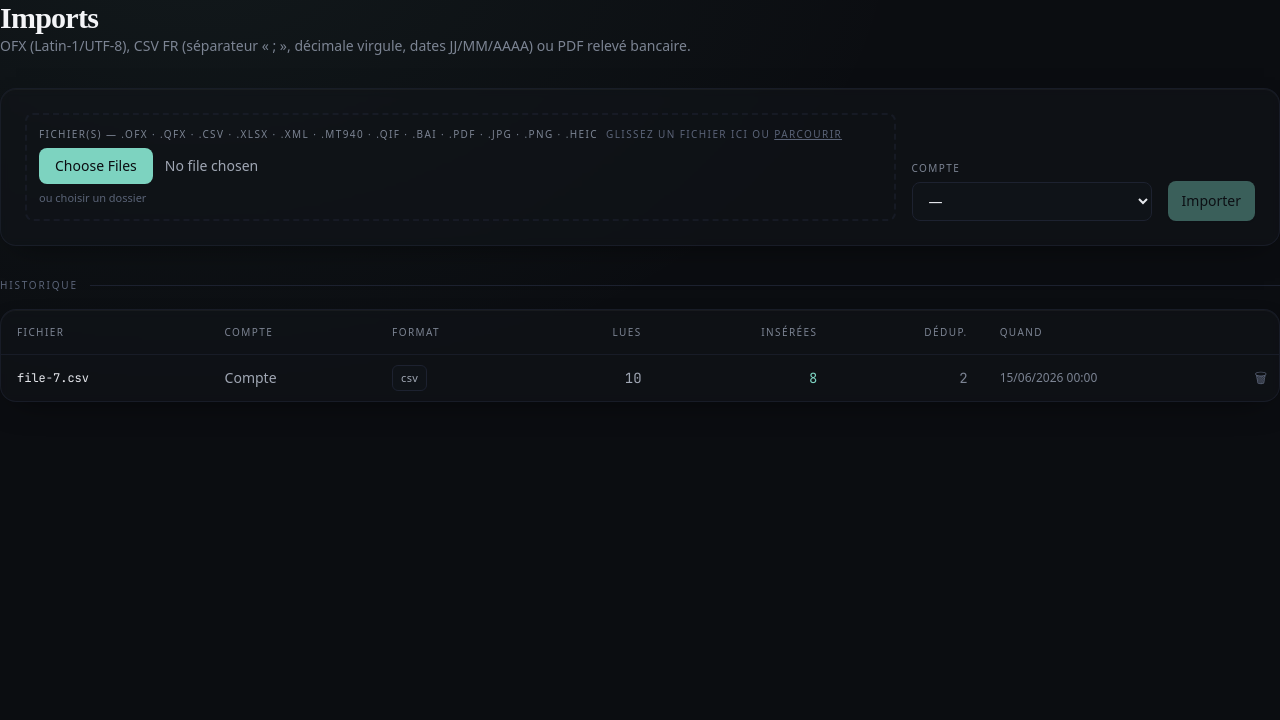
Test: Imports page (characterization) › deletes a file-import after confirmation
The width and height of the screenshot is (1280, 720).
Expected: the text "file-7.csv" is shown, [1, 354, 209, 400]
# Icon-only delete affordance, identified via aria-label.
Click the button named "Supprimer l'import" at (1261, 378), box [1250, 368, 1271, 388]
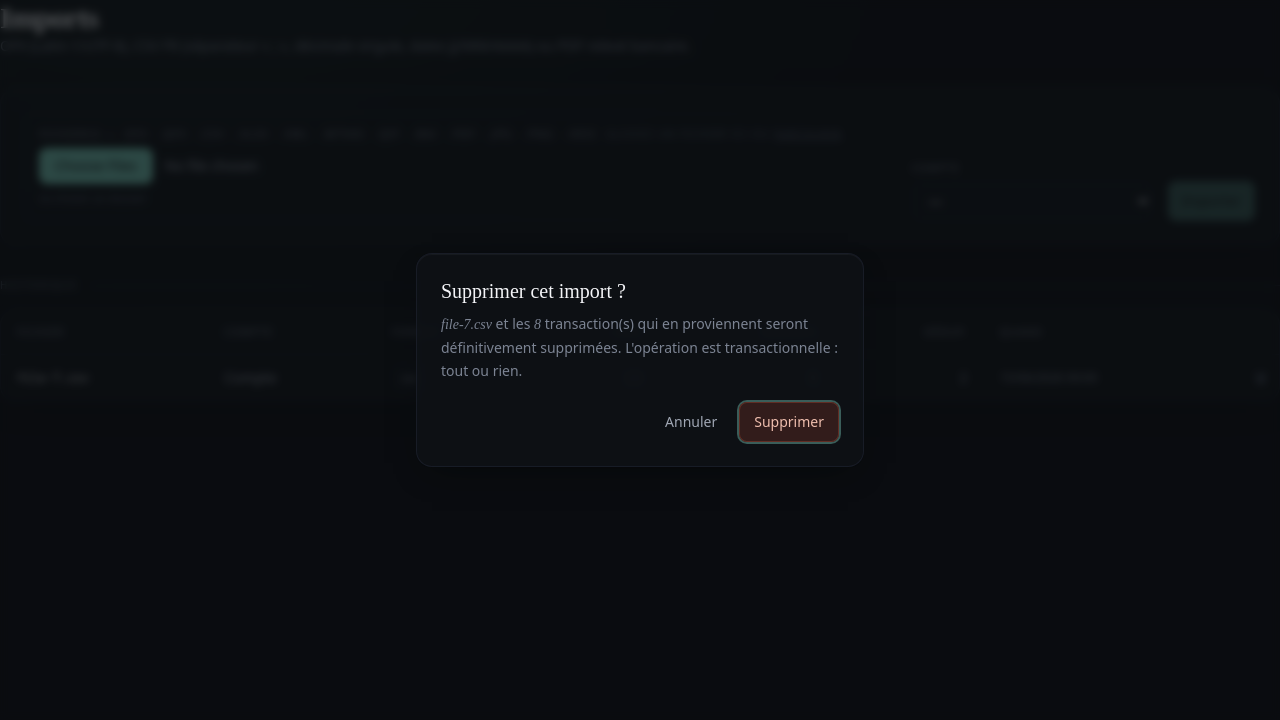
Click the button "Supprimer" at (789, 422), box [739, 402, 839, 442]
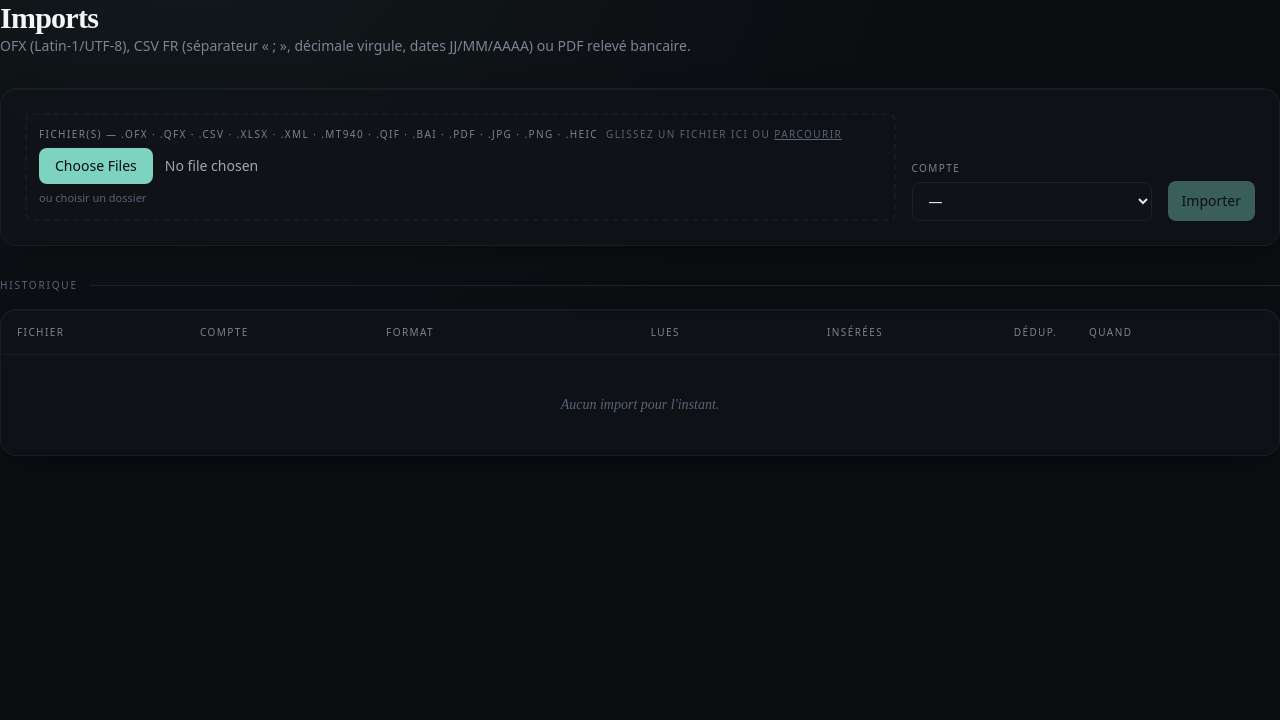
Now the text "file-7.csv" is gone
